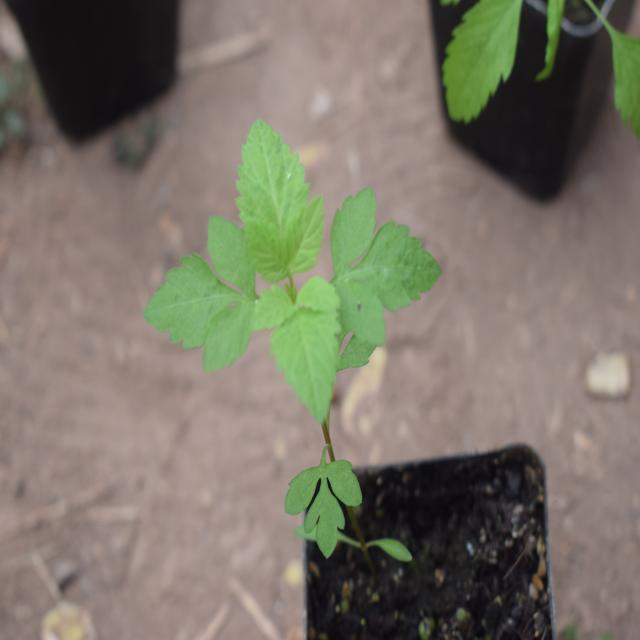Bidens pilosa: (142, 127, 444, 564)
